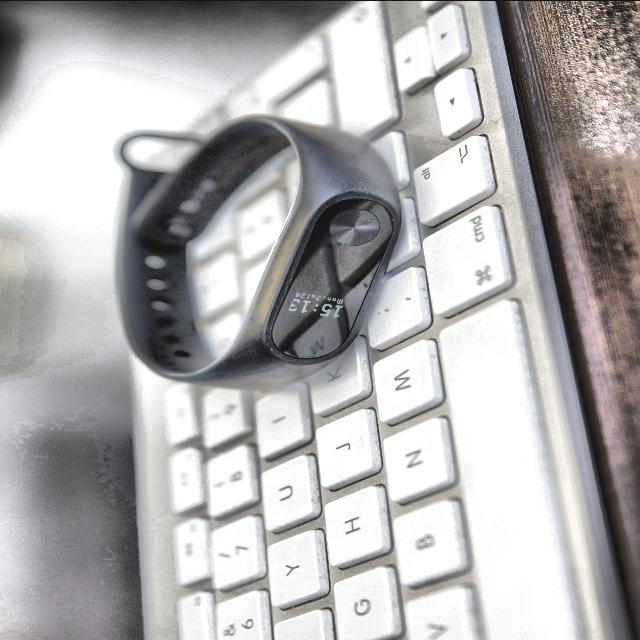Electronic watch: (122, 116, 402, 389)
